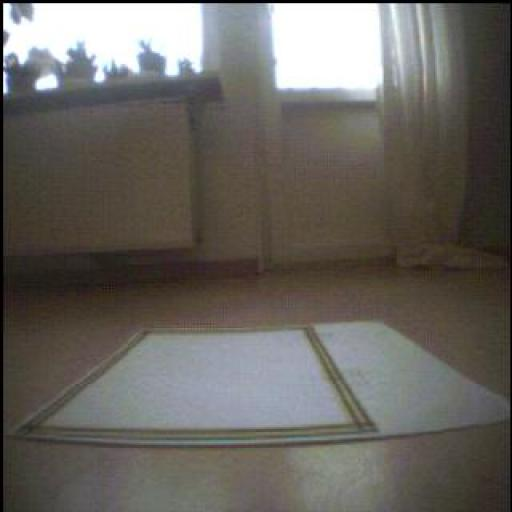Pad: (17, 323, 510, 448)
